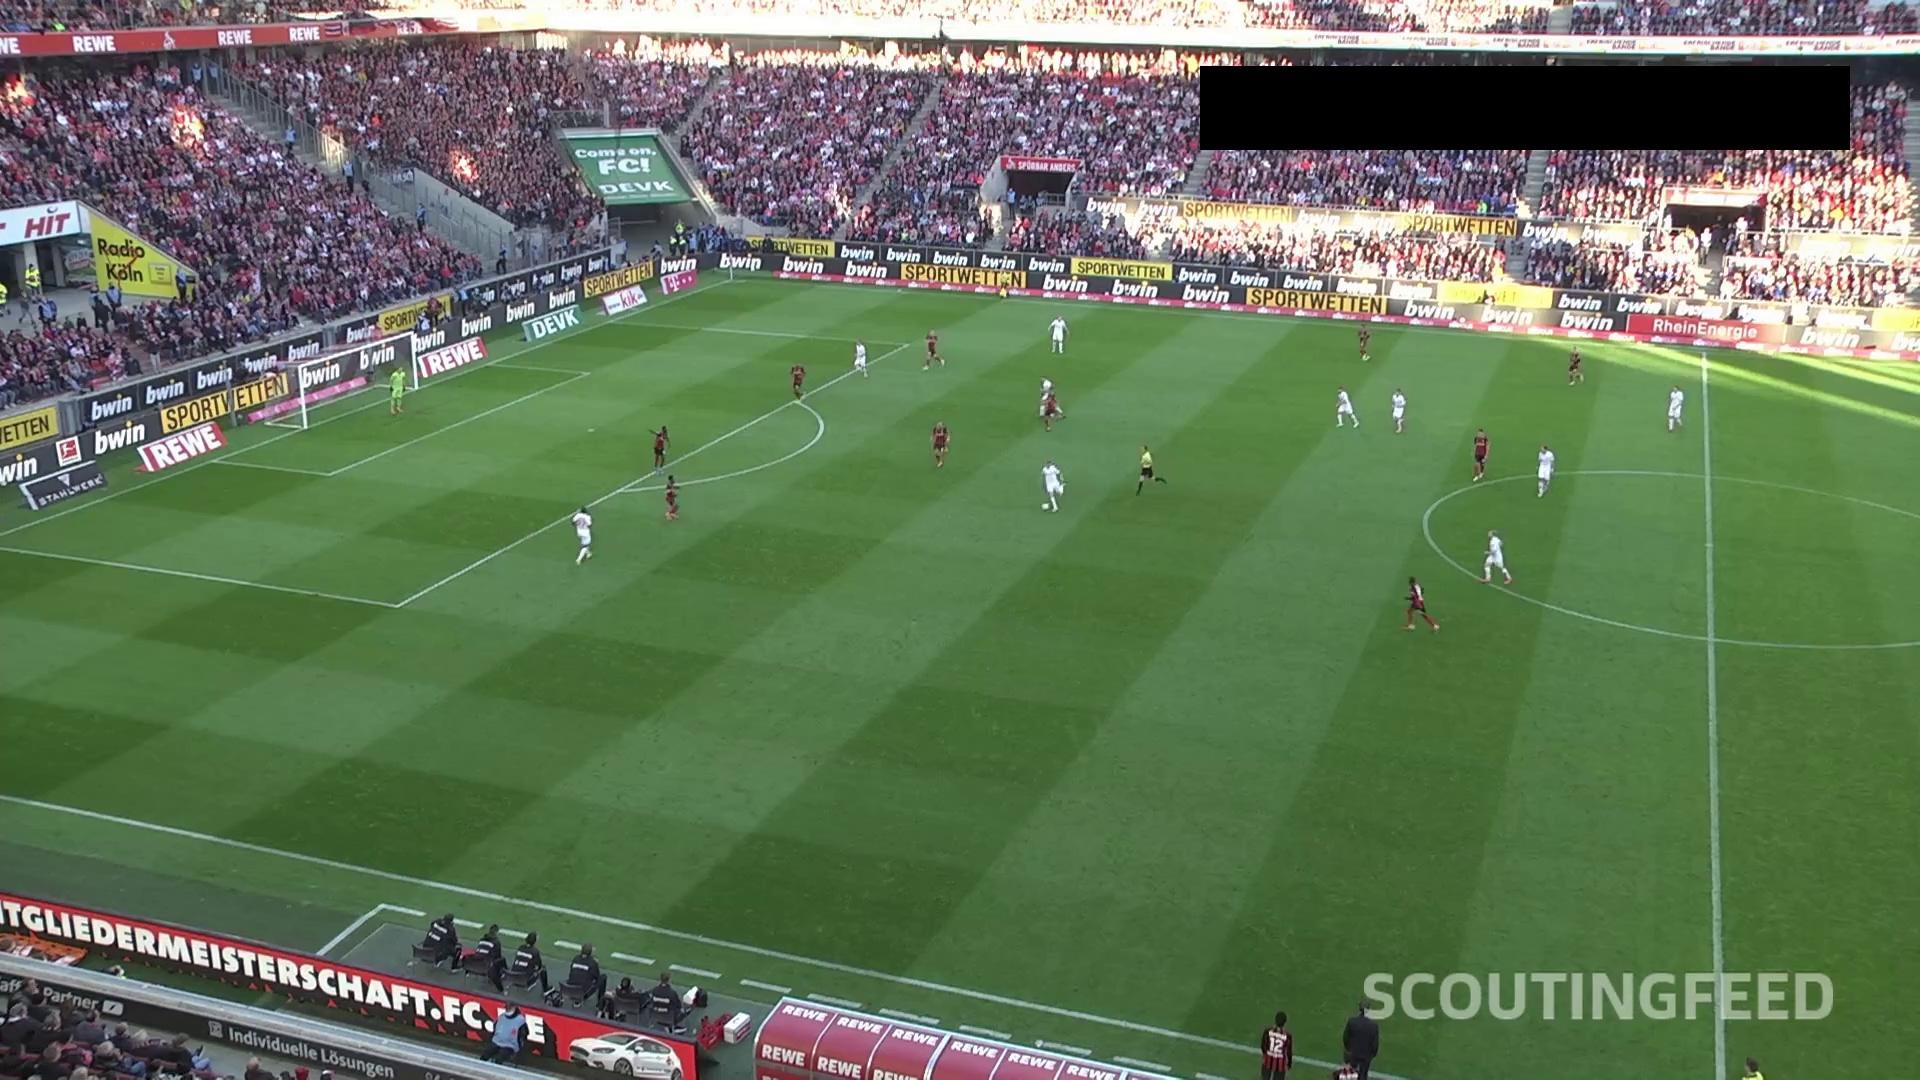Location-of-ball: (1038, 493, 1054, 517)
